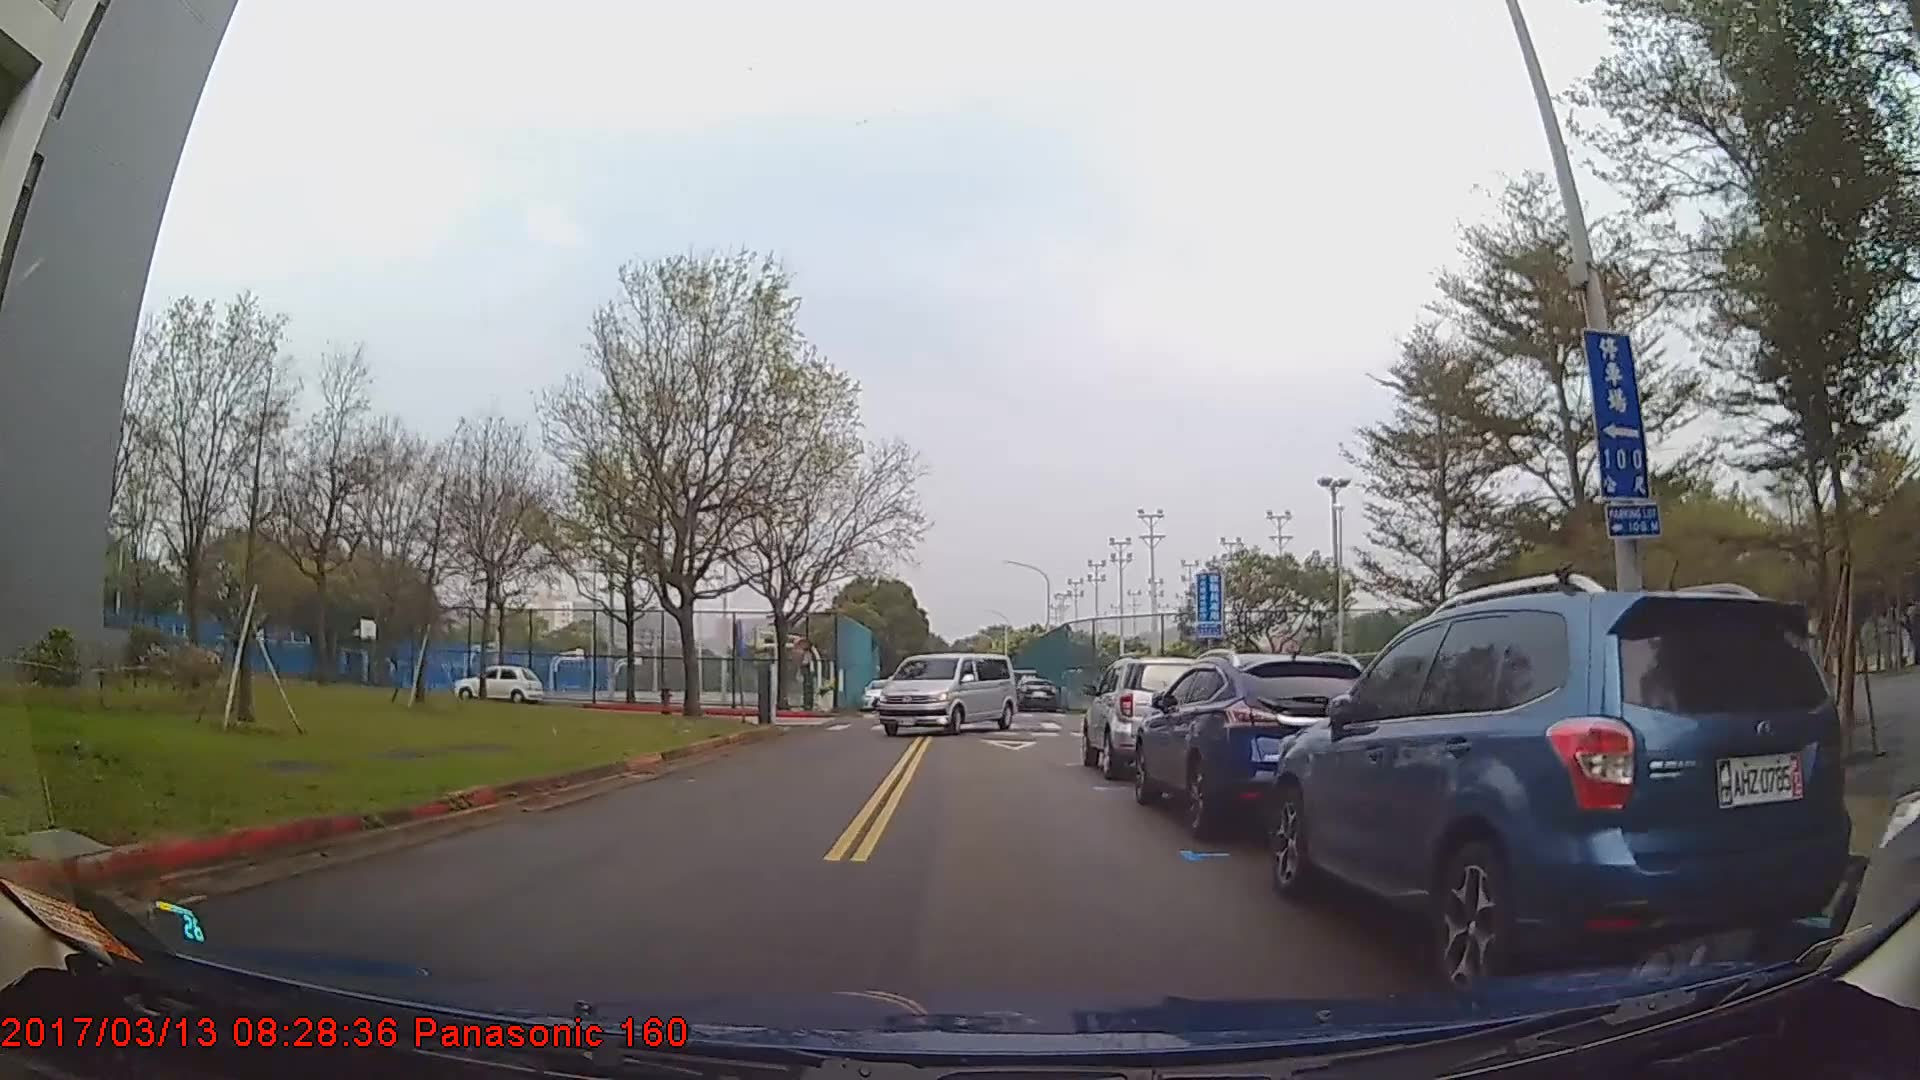vehicle: (1265, 587, 1851, 988), (1130, 651, 1379, 837), (1083, 655, 1213, 777), (874, 651, 1017, 741), (456, 665, 542, 703), (1013, 674, 1059, 711)
